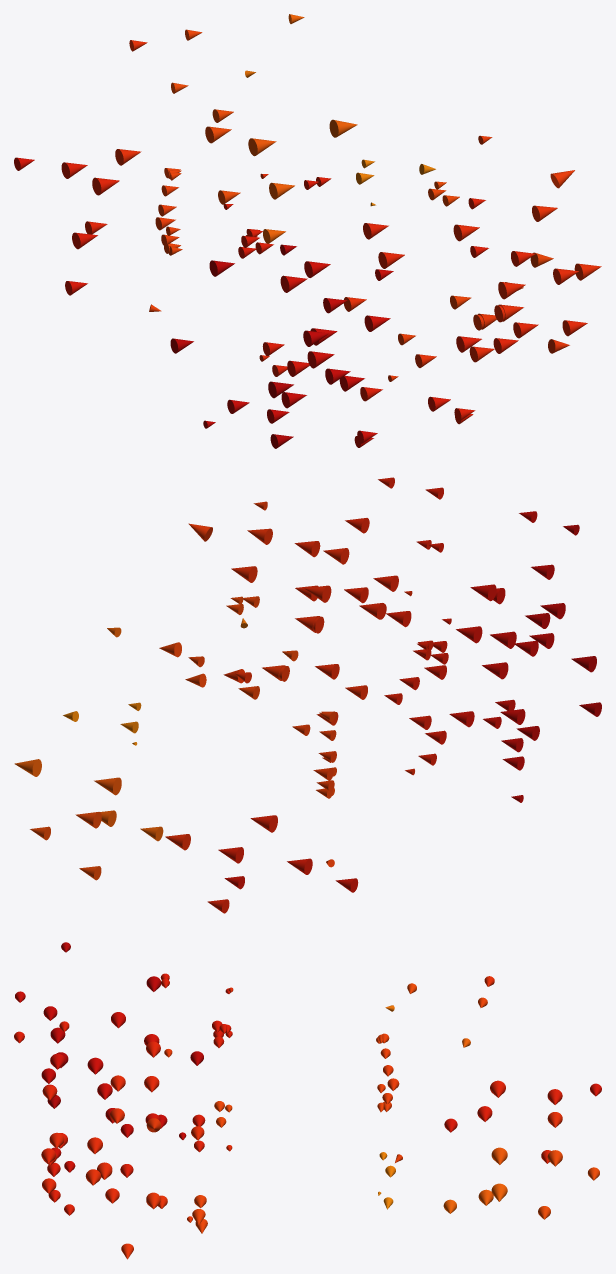
File: LineasCorrienteH2-O2_mh2-1.38_V-1.1.glb
3 views of the same model, one above another, from view 1: azimuth 30°, elevation 25°; view 2: azimuth 150°, elevation 25°; view 3: azimuth 270°, elevation 25° (orthographic). The views are drawn at different scales.
Size of the model in its own units: 0.000809 by 0.000484 by 0.00123.
2 materials, 2 textured.
